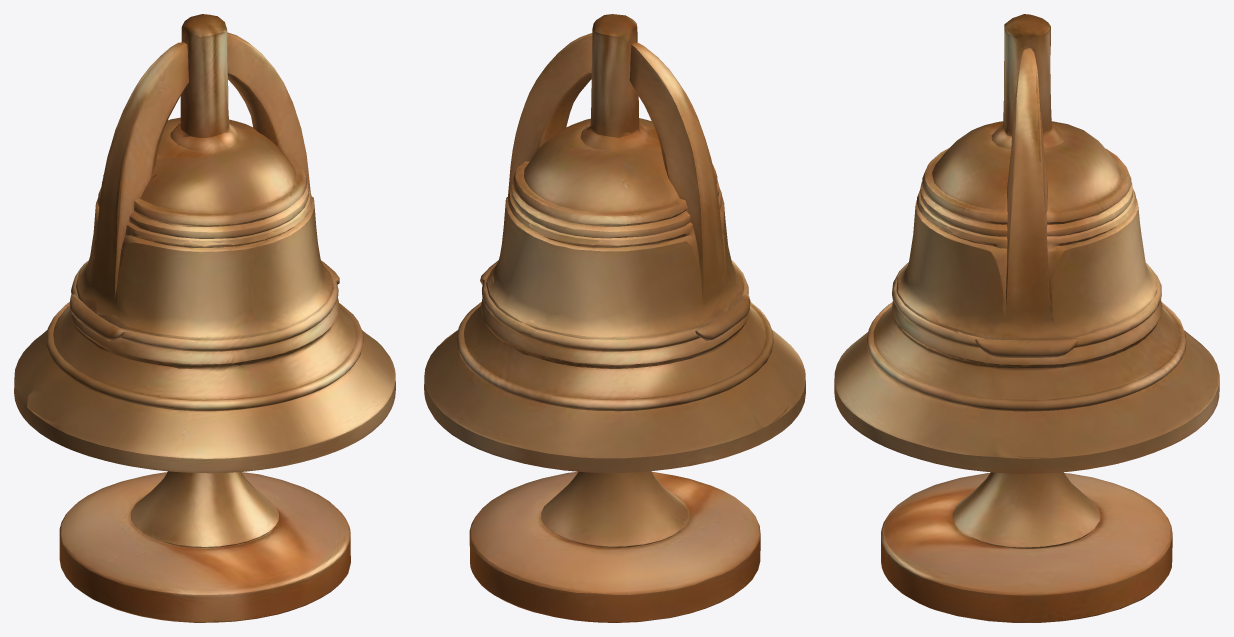
The model's file is base_basic_pbr.glb.
3 renders of one model, left to right at view 1: azimuth 30°, elevation 25°; view 2: azimuth 150°, elevation 25°; view 3: azimuth 270°, elevation 25°, orthographic.
Parts seen in each view (by area): view 1: model; view 2: model; view 3: model.
Boxes of the visible parts, x1=… form: model: x1=14, y1=14, x2=395, y2=622; model: x1=424, y1=14, x2=805, y2=622; model: x1=834, y1=14, x2=1219, y2=622.
Bounding box in the file's own units: 1.21 × 1.9 × 1.22.
Materials: 1 (1 with a texture image).
